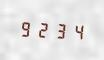four: (66, 20, 81, 41)
nine: (18, 18, 33, 39)
three: (50, 19, 65, 40)
two: (34, 19, 49, 39)
